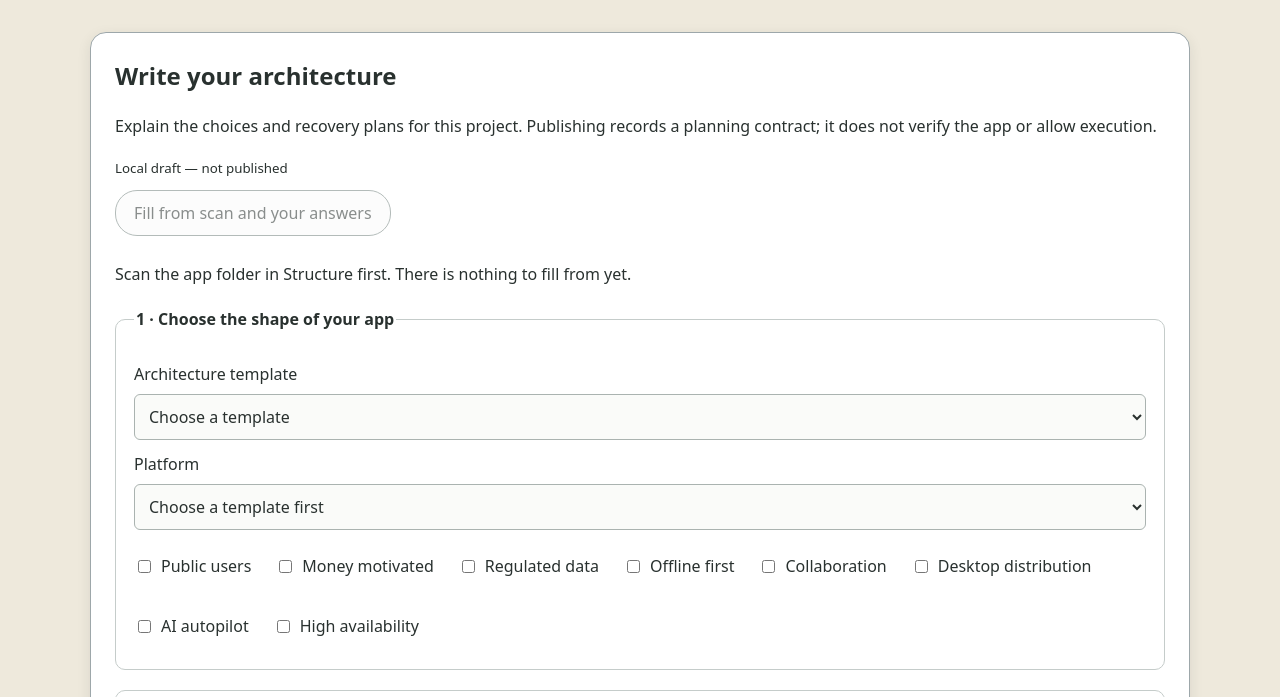
it: architecture draft authoring › reports local persistence failure without publication
Select "Static content website" in the dropdown labelled "Architecture template" at (640, 417), box [134, 394, 1146, 440]
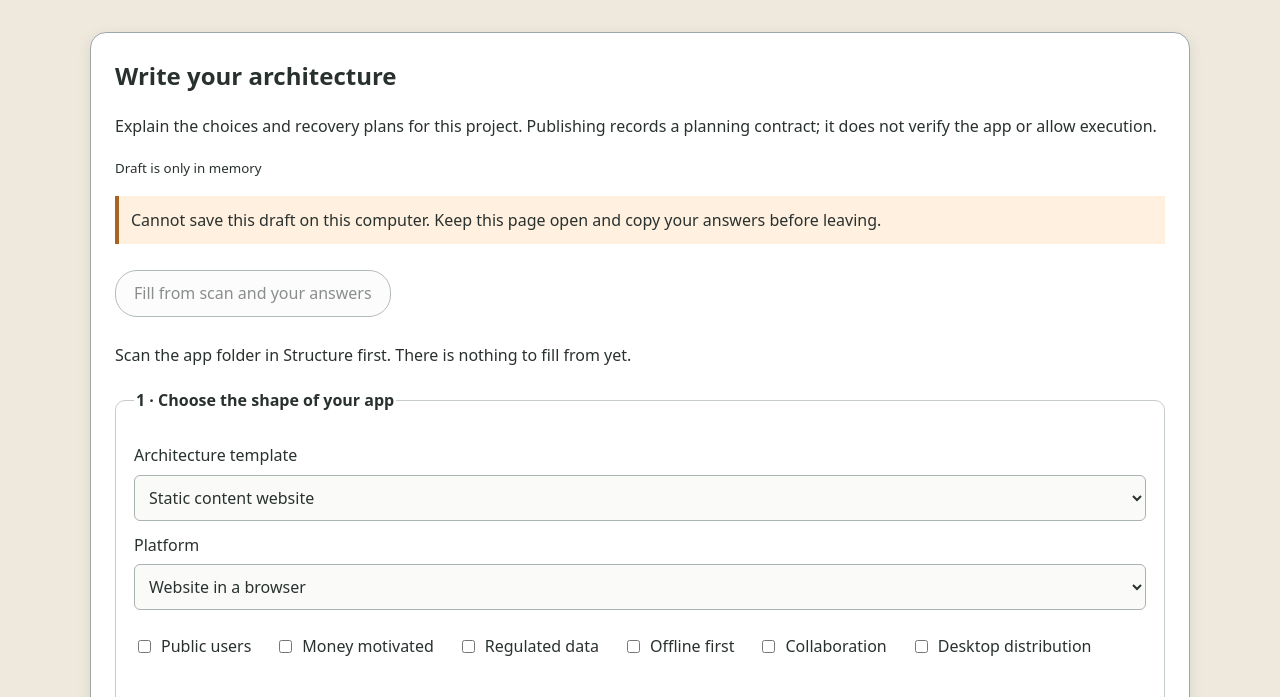
Expected: the 2nd message shows "Cannot save", [131, 209, 881, 231]
